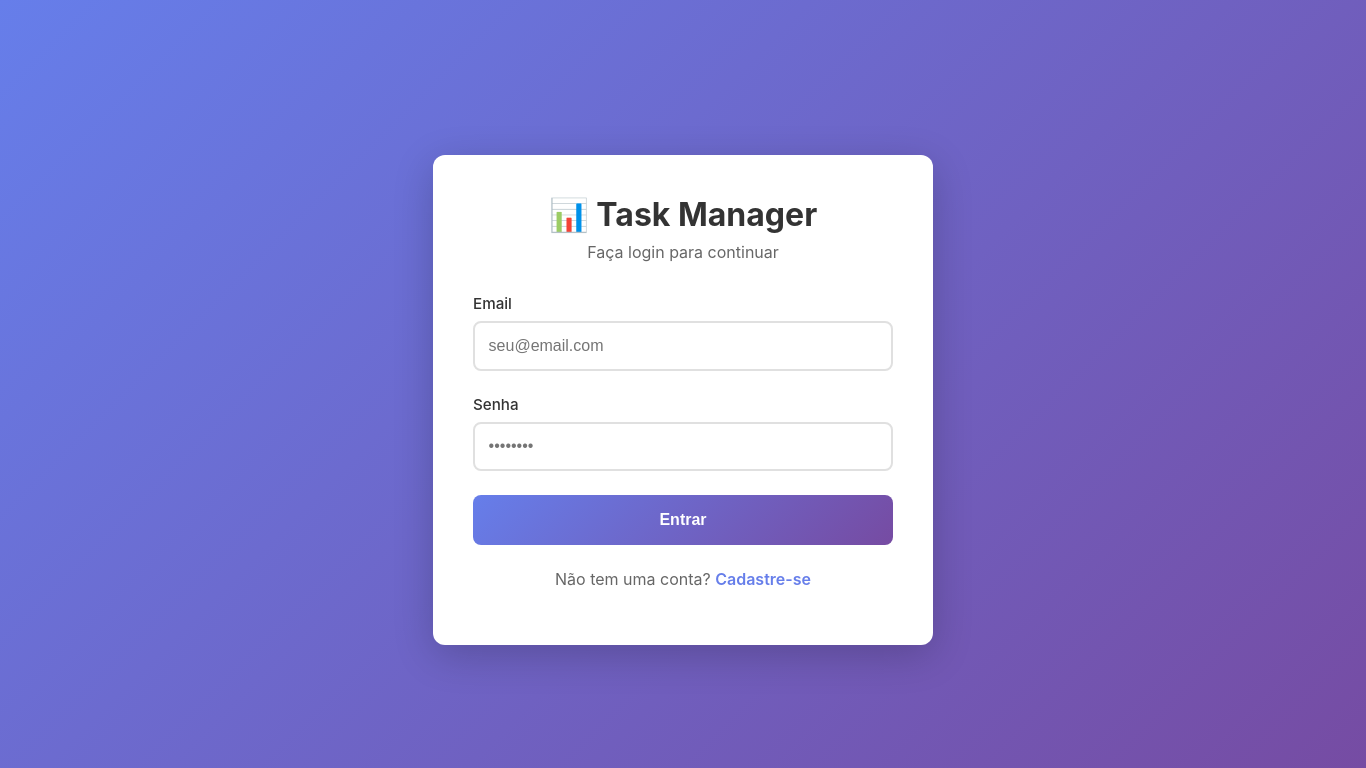
Login Page › deve desabilitar campos durante o loading
In the field with test id "email-input": (683, 346) x1=473 y1=321 x2=893 y2=370, type "test@example.com"
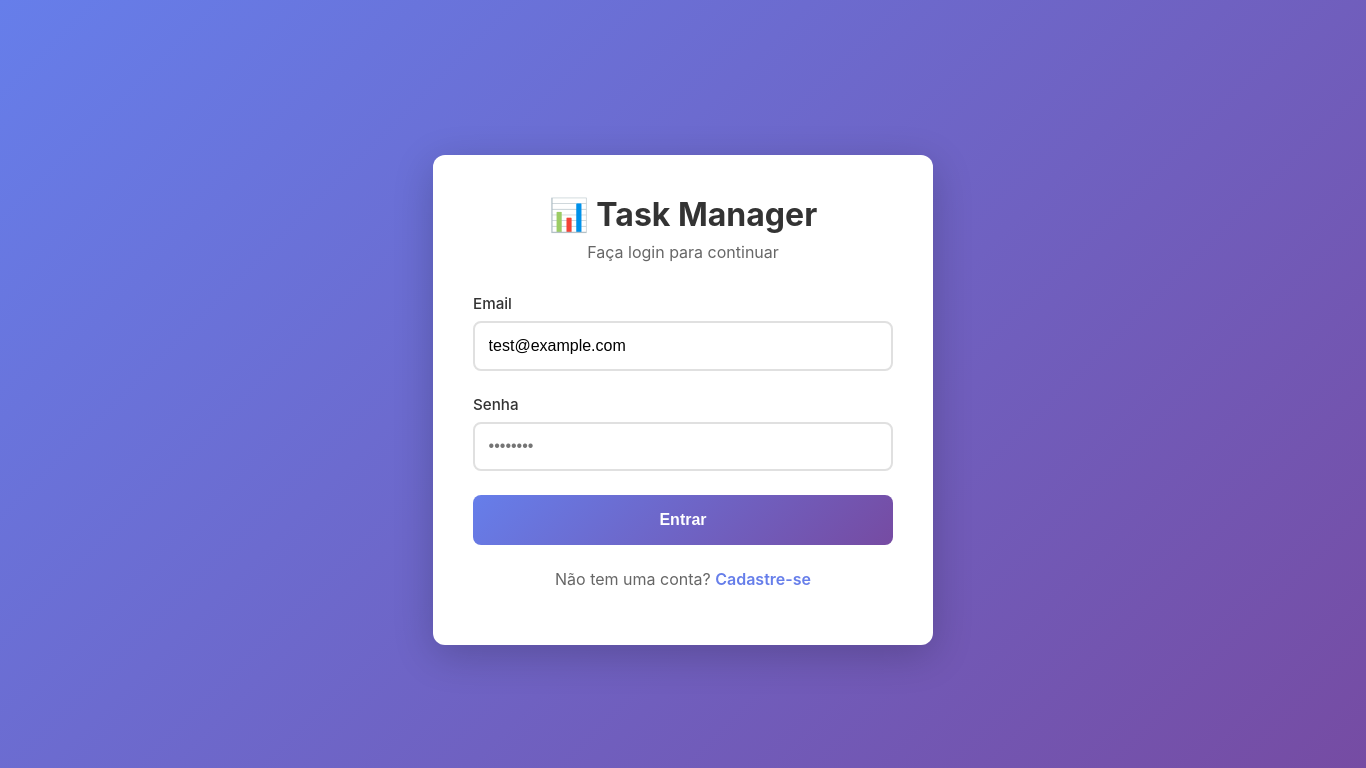
In the password field with test id "password-input": (683, 446) x1=473 y1=422 x2=893 y2=471, type "password123"
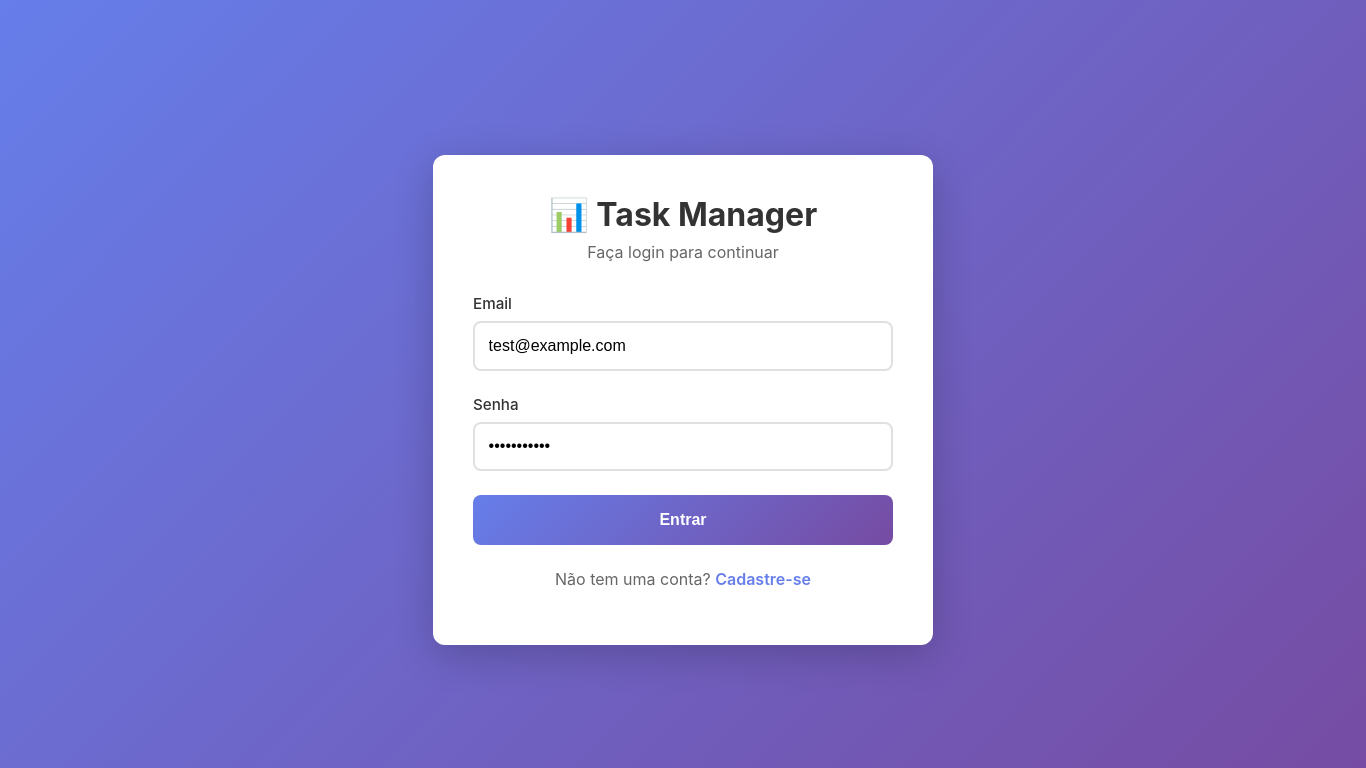
Click the button with test id "submit-button": (683, 520) x1=473 y1=495 x2=893 y2=545
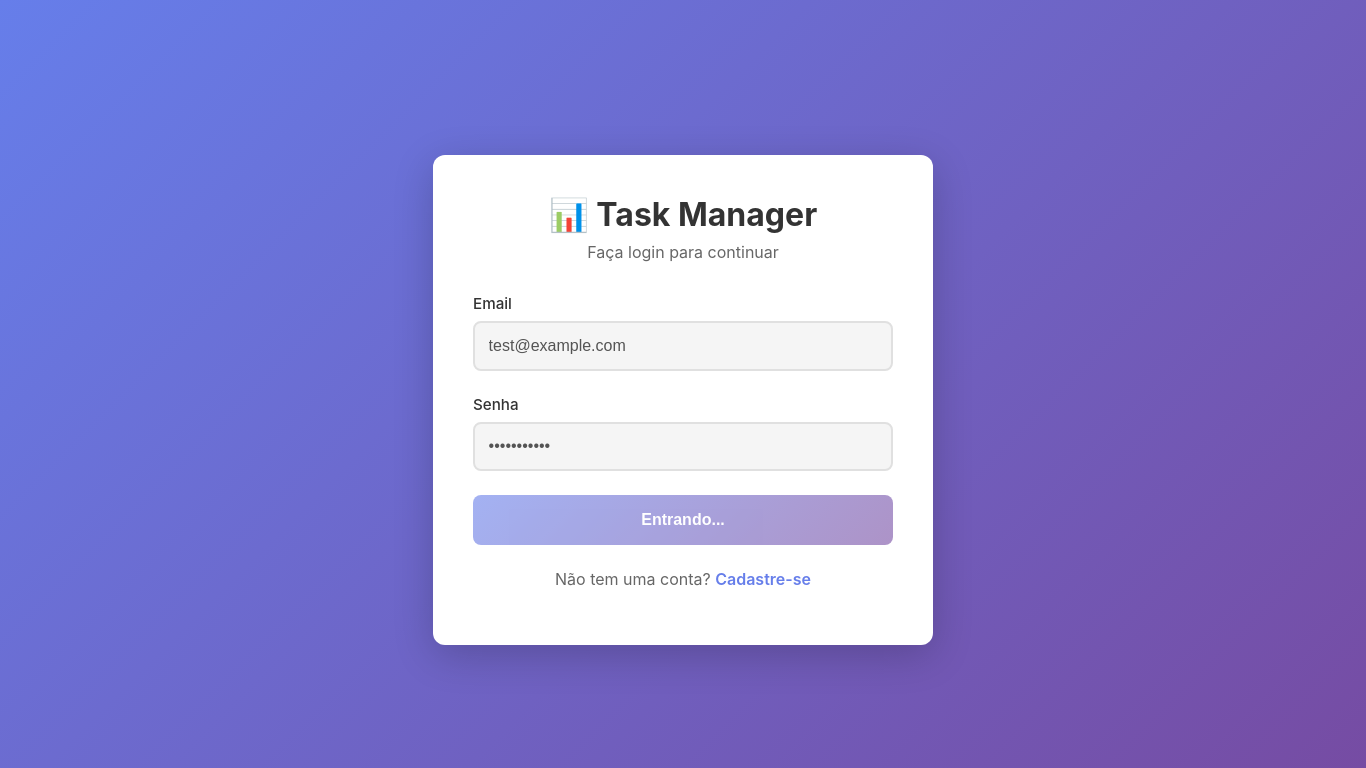
Expected: the button with test id "submit-button" is disabled, x1=473 y1=495 x2=893 y2=545
Expected: the field with test id "email-input" is disabled, x1=473 y1=321 x2=893 y2=370
Expected: the password field with test id "password-input" is disabled, x1=473 y1=422 x2=893 y2=471
